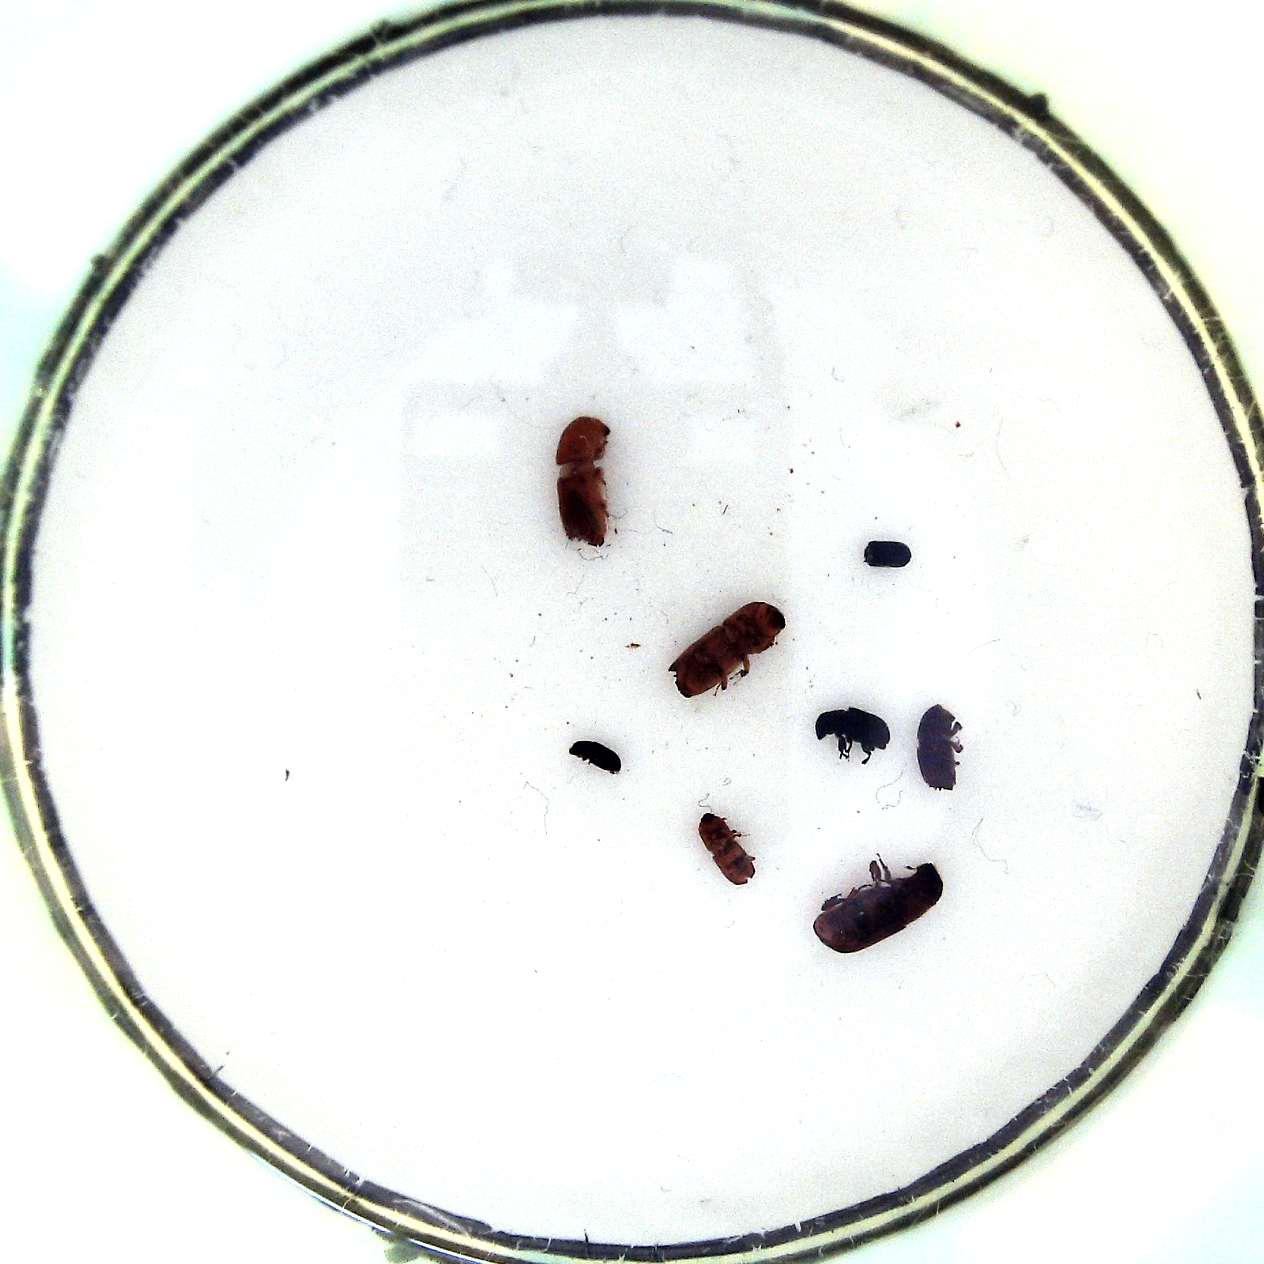Boerner: (667, 601, 787, 699), (550, 416, 613, 552)
Leconte: (813, 852, 945, 955)
Linnaeus: (917, 703, 967, 792)
acuminatus: (698, 808, 758, 888)
armandi: (808, 700, 892, 767)
coleoptera: (568, 738, 626, 776), (861, 538, 914, 573)
